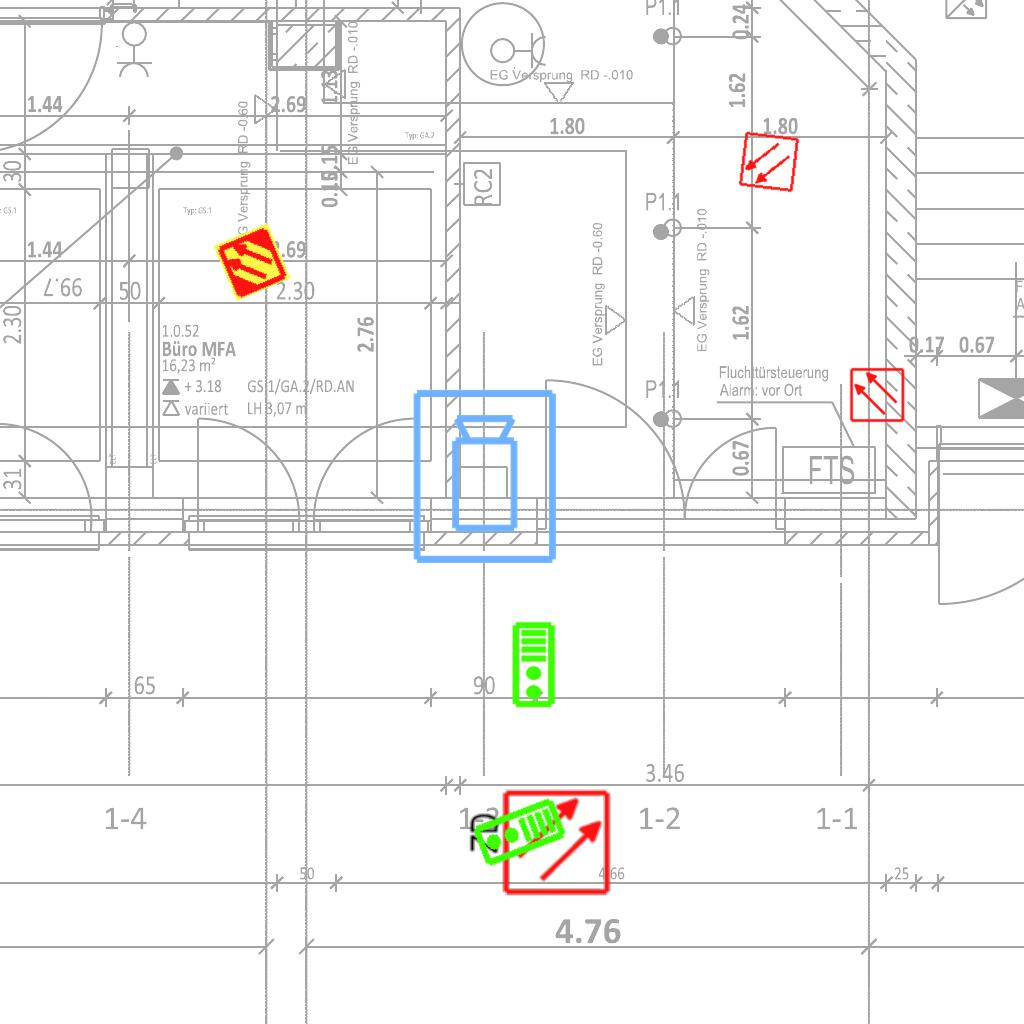ASR_Ansaugrauchmelder: (211, 221, 293, 303)
Gegensprechanlage_mit_Video: (470, 795, 569, 871), (511, 621, 558, 709)
KFO_Kamera_mit_Festobjektiv: (409, 386, 563, 568)
RMO_Rauchmelder_optischer: (737, 130, 801, 194), (849, 367, 905, 423)
ZD_Melder_in_Zwischendecke_mit_Revisionsoeffnung_mind_40_x_40_cm: (463, 787, 612, 901)
